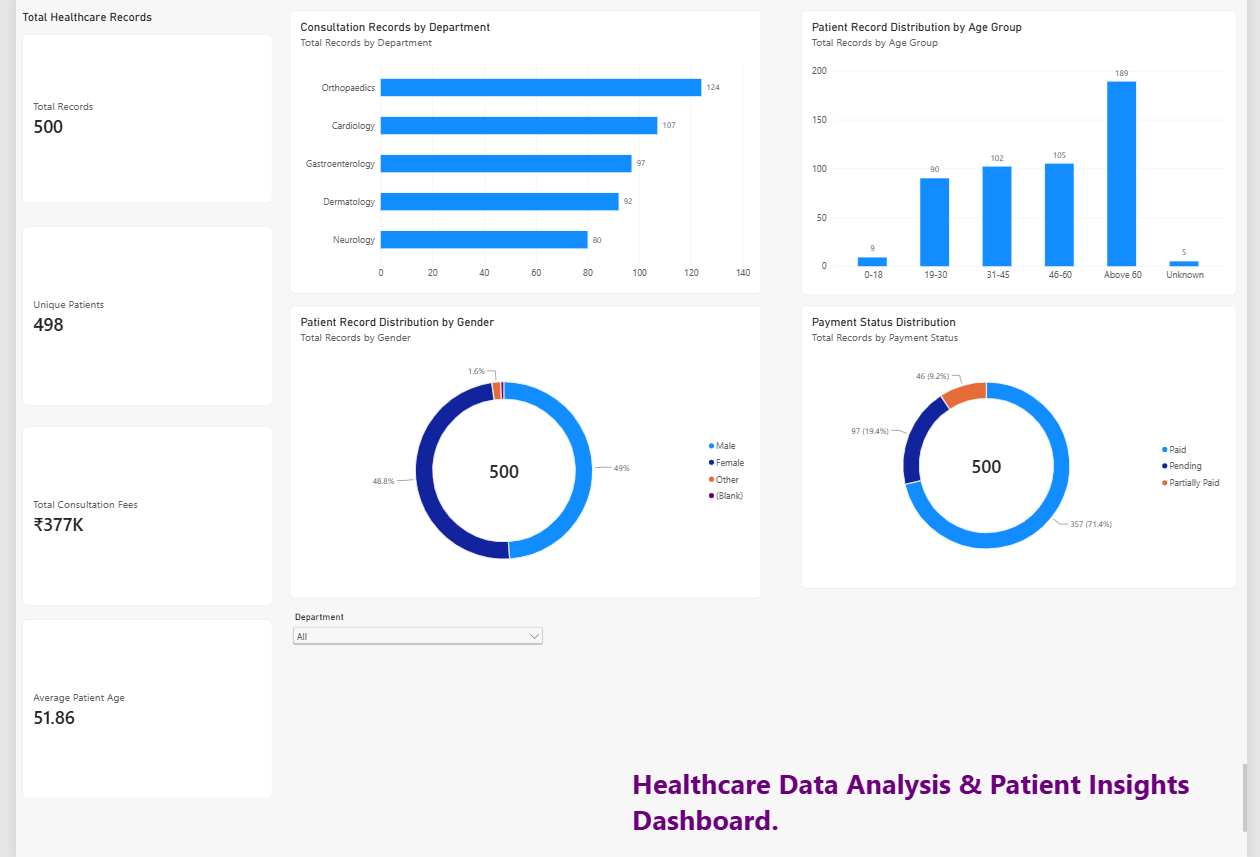

This screenshot's page, from the dashboard's own definition file:
{"tool":"powerbi","page":{"name":"Patient Insights Overview","canvas":[1920,1350],"ordinal":0},"visuals":[{"type":"cardVisual","title":"Total Healthcare Records","fields":{"Data":["Raw_Patient_Data.Total Records","Raw_Patient_Data.Total Records"]},"box":[9.7,25.3,390.6,301.3],"z":0},{"type":"cardVisual","fields":{"Data":["Raw_Patient_Data.Unique Patients"]},"box":[9.7,362.4,391.1,279.9],"z":1000},{"type":"cardVisual","fields":{"Data":["Raw_Patient_Data.Total Consultation Fees"]},"box":[9.7,674.2,391.1,279.9],"z":2000},{"type":"cardVisual","fields":{"Data":["Raw_Patient_Data.Average Patient Age"]},"box":[9.7,974.3,390.6,280.9],"z":3000},{"type":"clusteredBarChart","title":"Consultation Records by Department","fields":{"Category":["Raw_Patient_Data.Department"],"Y":["Raw_Patient_Data.Total Records"]},"box":[426.4,25.5,735.3,441.7],"z":4000},{"type":"donutChart","title":"Patient Record Distribution by Gender","fields":{"Category":["Raw_Patient_Data.Gender"],"Y":["Raw_Patient_Data.Total Records"]},"box":[426.4,485.1,735.3,457],"z":5000},{"type":"clusteredColumnChart","title":"Patient Record Distribution by Age Group","fields":{"Category":["Raw_Patient_Data.Age Group"],"Y":["Raw_Patient_Data.Total Records"]},"box":[1223,25.5,679.1,444.3],"z":6000},{"type":"donutChart","title":"Payment Status Distribution","fields":{"Category":["Raw_Patient_Data.Payment Status"],"Y":["Raw_Patient_Data.Total Records"]},"box":[1223,485.1,679.1,441.7],"z":7000},{"type":"slicer","fields":{"Values":["Raw_Patient_Data.Department"]},"box":[426.1,963.3,399.3,292.3],"z":8000},{"type":"textbox","box":[960,1200,960,109.8],"z":9000}]}

Visuals, with their boxes on the page's 1920x1350 design canvas (x1, y1, x2, y2). These are canvas units, not pixel positions in the 1260x857 screenshot, which may show the page scaled, cropped or inside an application window:
"Total Healthcare Records" cardVisual: [x1=10, y1=25, x2=400, y2=327]
cardVisual - Raw_Patient_Data.Unique Patients: [x1=10, y1=362, x2=401, y2=642]
cardVisual - Raw_Patient_Data.Total Consultation Fees: [x1=10, y1=674, x2=401, y2=954]
cardVisual - Raw_Patient_Data.Average Patient Age: [x1=10, y1=974, x2=400, y2=1255]
"Consultation Records by Department" clusteredBarChart: [x1=426, y1=26, x2=1162, y2=467]
"Patient Record Distribution by Gender" donutChart: [x1=426, y1=485, x2=1162, y2=942]
"Patient Record Distribution by Age Group" clusteredColumnChart: [x1=1223, y1=26, x2=1902, y2=470]
"Payment Status Distribution" donutChart: [x1=1223, y1=485, x2=1902, y2=927]
slicer - Raw_Patient_Data.Department: [x1=426, y1=963, x2=825, y2=1256]
textbox: [x1=960, y1=1200, x2=1920, y2=1310]
